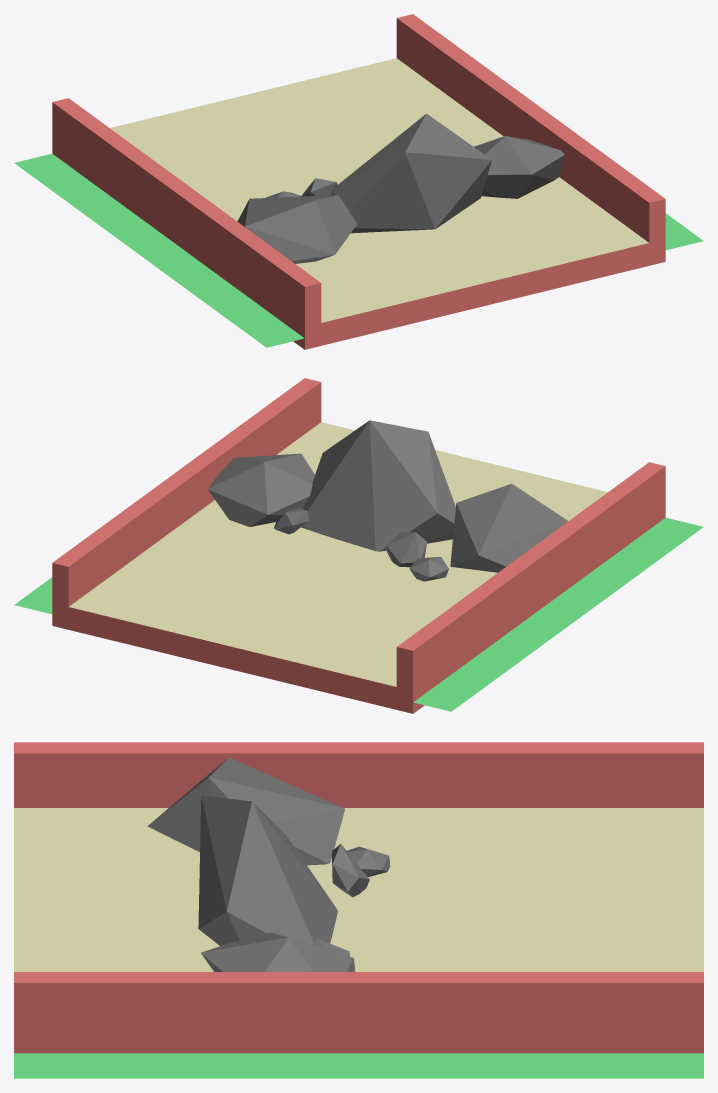
Rendered from rock_wall_tile.fbx.
The picture shows the model from 3 angles, top to bottom: view 1: azimuth 30°, elevation 25°; view 2: azimuth 150°, elevation 25°; view 3: azimuth 270°, elevation 25°; orthographic projection. The views are drawn at different scales.
Parts seen in each view (by area): view 1: Cube, 1_rock.001, Plane, 1_rock, 1_rock.002; view 2: Cube, 1_rock.001, Plane, 1_rock, 1_rock.002, 1_rock.003, 1_rock.004, 1_rock.005; view 3: Cube, Plane, 1_rock.001, 1_rock, 1_rock.002, 1_rock.003, 1_rock.004.
Part boxes in pixels (x1,y1,x2,y2): Cube: (52, 14, 665, 349); 1_rock.001: (333, 113, 491, 233); Plane: (14, 153, 703, 347); 1_rock: (237, 195, 357, 263); 1_rock.002: (474, 136, 564, 198); Cube: (52, 378, 665, 713); 1_rock.001: (301, 420, 455, 551); Plane: (14, 517, 703, 711); 1_rock: (450, 483, 568, 572); 1_rock.002: (207, 453, 314, 526); 1_rock.003: (386, 532, 427, 567); 1_rock.004: (409, 557, 448, 581); 1_rock.005: (274, 508, 308, 534); Cube: (14, 742, 703, 1053); Plane: (14, 1053, 703, 1078); 1_rock.001: (198, 795, 337, 945); 1_rock: (147, 757, 344, 865); 1_rock.002: (201, 932, 355, 971); 1_rock.003: (332, 843, 369, 897); 1_rock.004: (347, 846, 390, 876).
Bounding box in the file's own units: 200 × 70.95 × 200.
